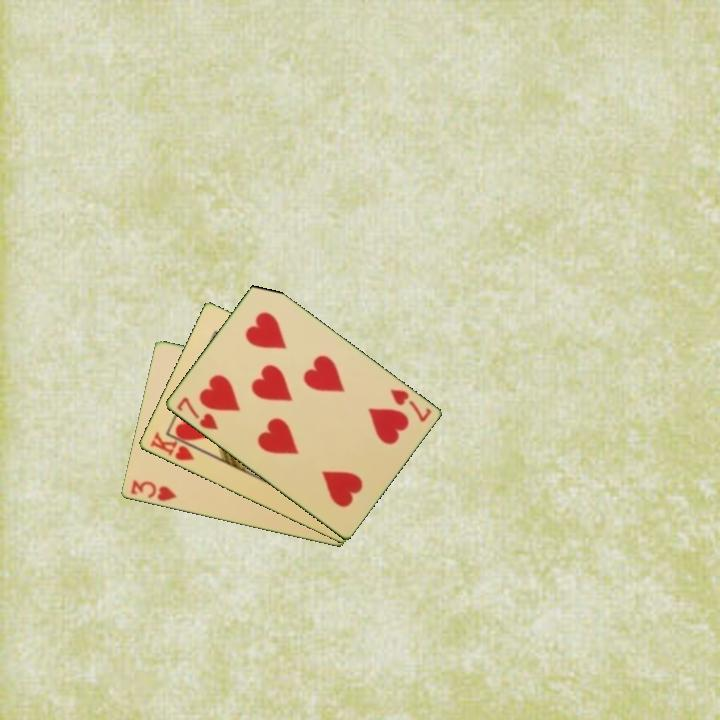3h: (127, 477, 179, 504)
7h: (173, 393, 221, 433), (386, 385, 434, 425)
Kh: (146, 428, 203, 464)
